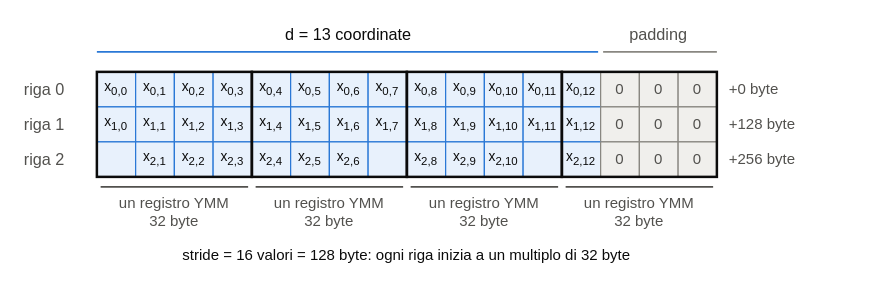
Image size: 873x290. Some labels were removed from this diagram. The centre of each missing label's shape, as x and y in pixels:
"x 2,0" goes at [116,159].
"x 2,11" goes at [542,159].
"x 2,7" goes at [387,159].
